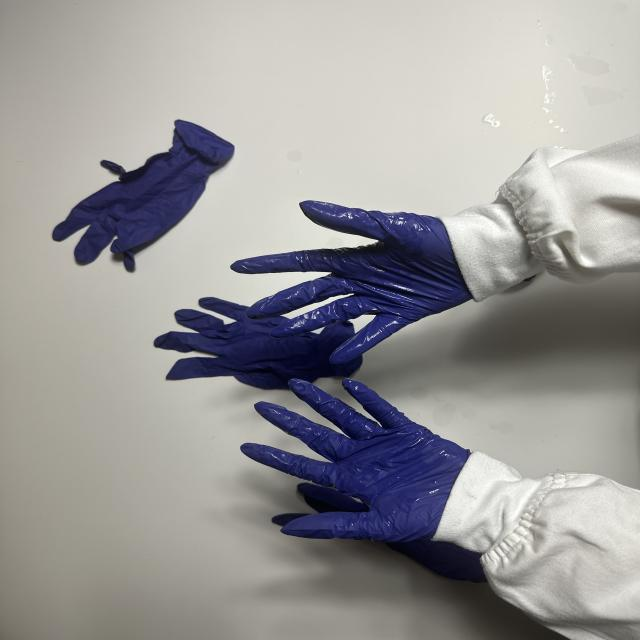gloves_contaminated: (232, 202, 472, 364), (241, 378, 470, 542)
